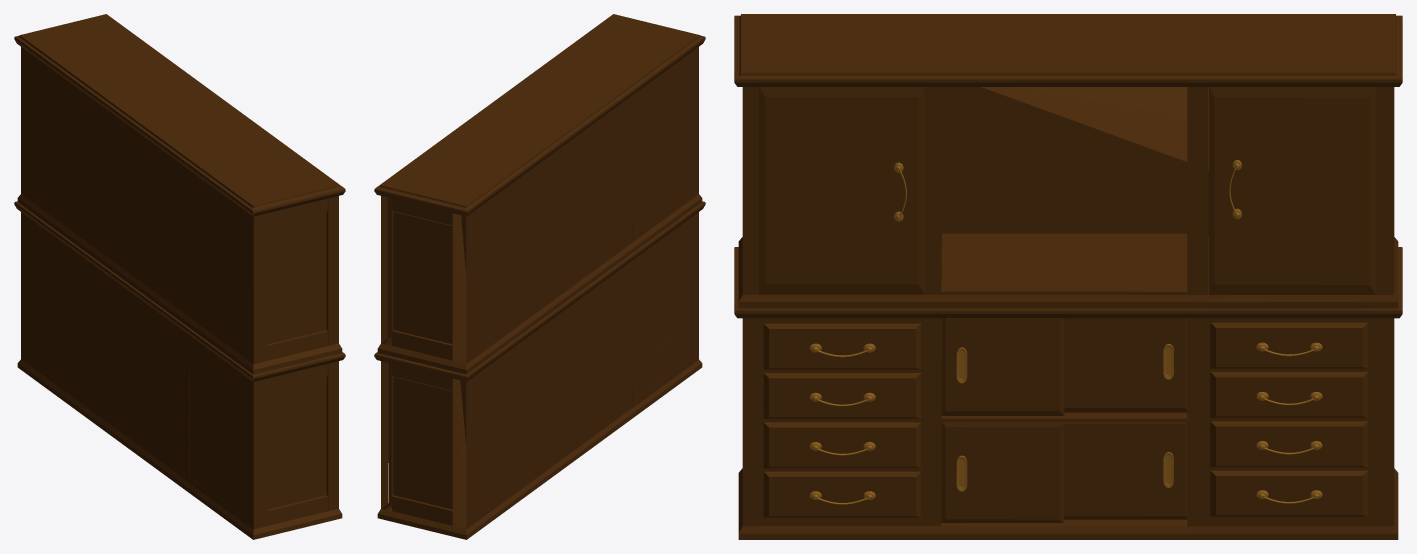
The model's file is Bookshelf_final 2.fbx.
3 renders of one model, left to right at view 1: azimuth 30°, elevation 25°; view 2: azimuth 150°, elevation 25°; view 3: azimuth 270°, elevation 25°, orthographic. The views are drawn at different scales.
Parts seen in each view (by area): view 1: Cube.022, LowerPart; view 2: Cube.022, LowerPart, Panel_TopRight1, Cube.021, Cube.027, Door_Right.006; view 3: Cube.022, LowerPart, Door_Right.006, Door_Left.007, Plane, Door_Left.005, Door_Right.005, Door_Left.004, Door_Right.004, Drawer_Low.016, Drawer_Top.014, Drawer_Top.016 (+6 smaller).
Boxes of the visible parts, x1,y1,x2,y2 form: Cube.022: (14, 14, 345, 374); LowerPart: (14, 201, 345, 539); Cube.022: (374, 14, 705, 374); LowerPart: (374, 201, 705, 539); Panel_TopRight1: (392, 198, 452, 225); Cube.021: (388, 363, 466, 506); Cube.027: (392, 364, 452, 390); Door_Right.006: (387, 197, 390, 338); Cube.022: (734, 14, 1402, 308); LowerPart: (734, 247, 1402, 539); Door_Right.006: (1208, 87, 1376, 294); Door_Left.007: (759, 87, 924, 294); Plane: (941, 233, 1187, 294); Door_Left.005: (941, 422, 1064, 522); Door_Right.005: (1064, 415, 1187, 519); Door_Left.004: (941, 318, 1064, 415); Door_Right.004: (1064, 318, 1187, 412); Drawer_Low.016: (1210, 470, 1368, 516); Drawer_Top.014: (763, 323, 921, 369); Drawer_Top.016: (1210, 322, 1368, 368).
Size of the model in its own units: 344 by 1163 by 1512.
